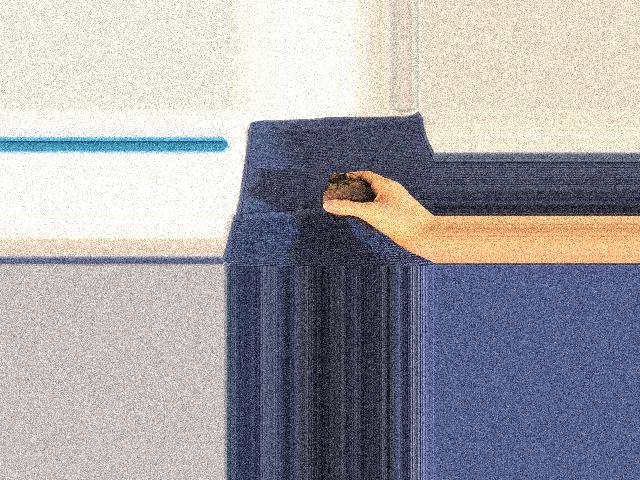beet: (322, 172, 373, 234)
